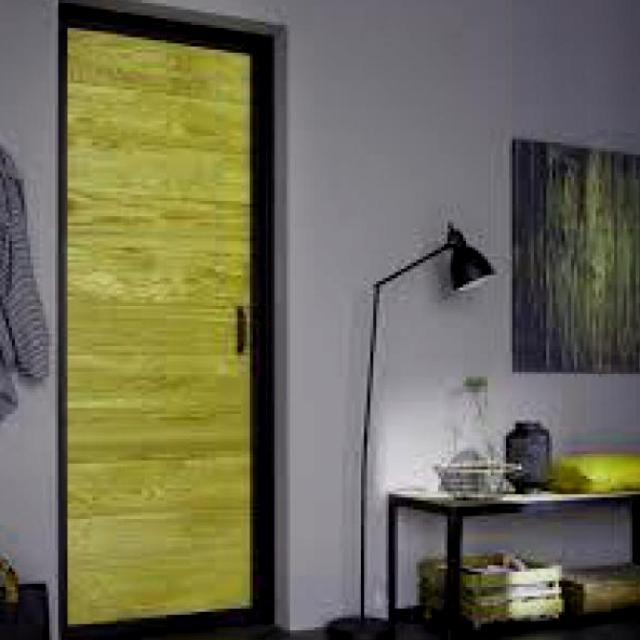door: (57, 3, 276, 635)
